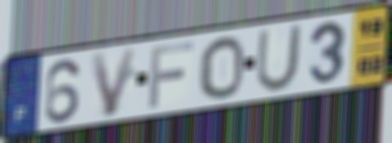3: (305, 18, 351, 86)
6: (43, 55, 82, 126)
F: (147, 39, 197, 111)
O: (197, 34, 246, 100)
U: (253, 22, 305, 94)
V: (88, 44, 140, 120)
